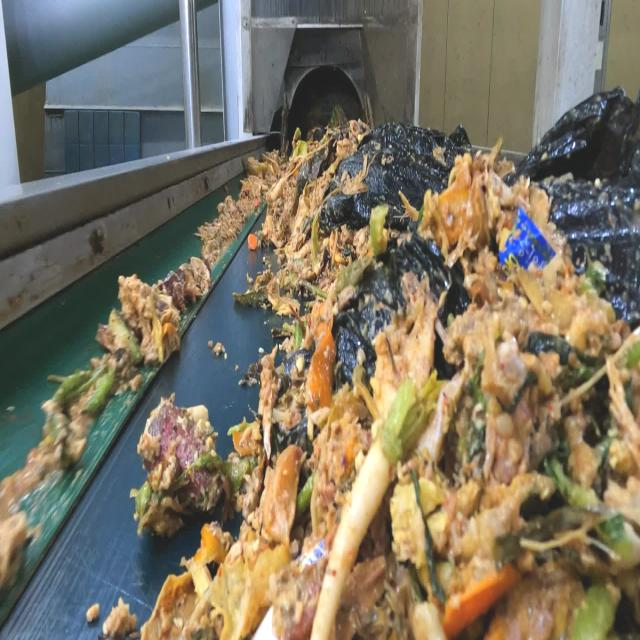wet: (313, 396, 455, 592), (513, 307, 626, 462), (228, 441, 301, 635), (373, 281, 439, 412), (558, 321, 638, 412), (437, 146, 501, 256), (148, 440, 219, 530), (604, 343, 640, 478), (291, 165, 338, 252), (51, 360, 118, 416), (192, 451, 252, 497), (259, 346, 279, 465), (264, 170, 298, 239), (108, 308, 143, 360), (341, 152, 373, 195), (266, 284, 302, 322), (486, 136, 504, 171)
